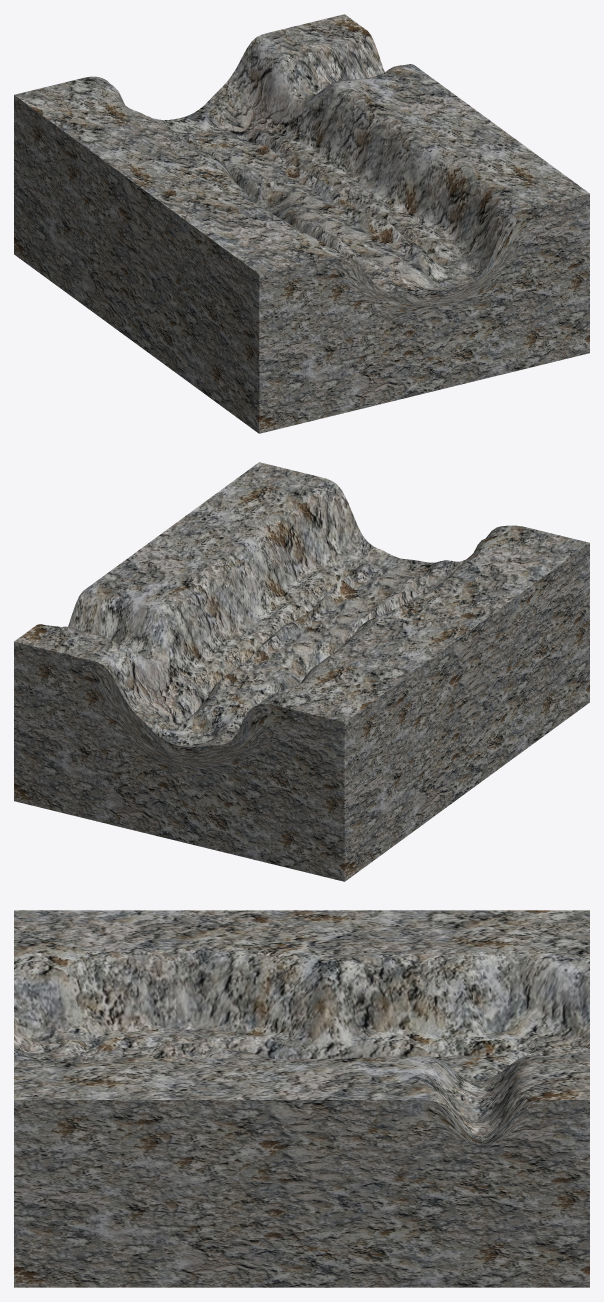
3 renders of one model, top to bottom at view 1: azimuth 30°, elevation 25°; view 2: azimuth 150°, elevation 25°; view 3: azimuth 270°, elevation 25°, orthographic. The views are drawn at different scales.
Parts seen in each view (by area): view 1: node_xgmount_-123750; view 2: node_xgmount_-123750; view 3: node_xgmount_-123750.
Boxes of the visible parts, x1=… form: node_xgmount_-123750: x1=14, y1=14, x2=589, y2=433; node_xgmount_-123750: x1=14, y1=462, x2=589, y2=881; node_xgmount_-123750: x1=14, y1=910, x2=589, y2=1287.
Size of the model in its own units: 1.68 by 0.7749 by 2.16.
